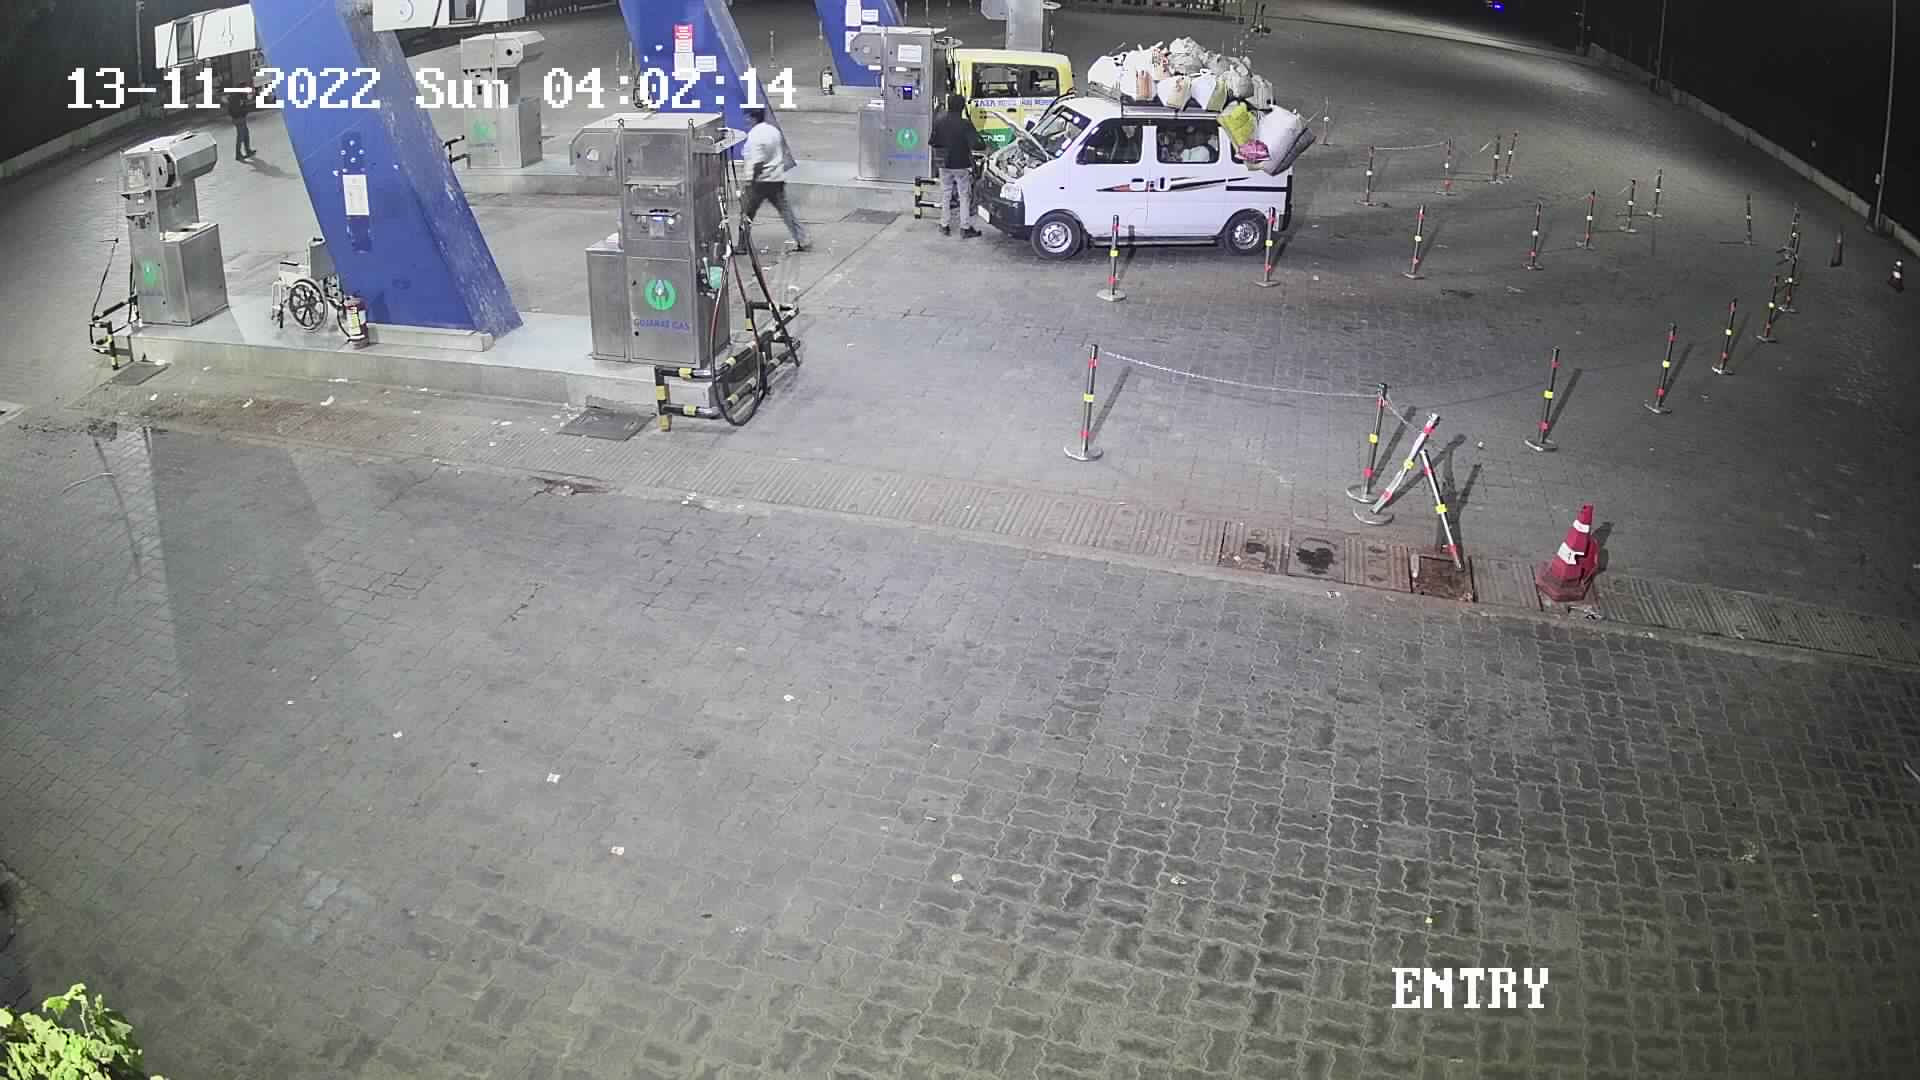Auto: (936, 40, 1081, 175)
Car: (964, 26, 1331, 266)
